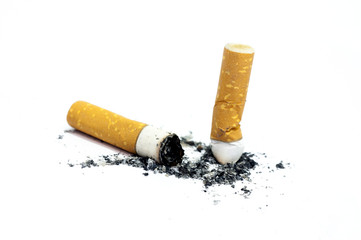cigarette: (63, 99, 187, 169), (205, 41, 260, 169)
